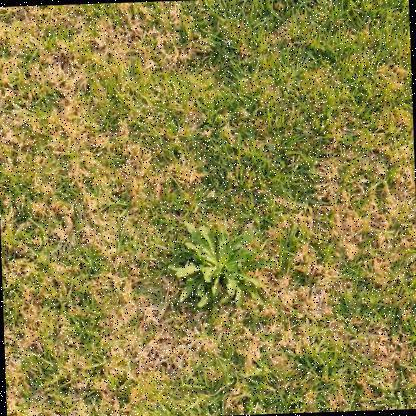Weeds: (166, 217, 280, 310)
